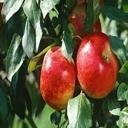apple: (40, 44, 76, 110)
